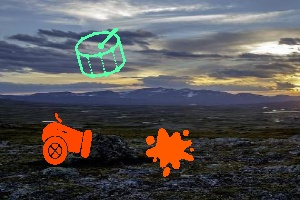大炮: (39, 114, 98, 168)
颜料一坨: (145, 127, 197, 175)
鼓: (73, 30, 129, 78)
